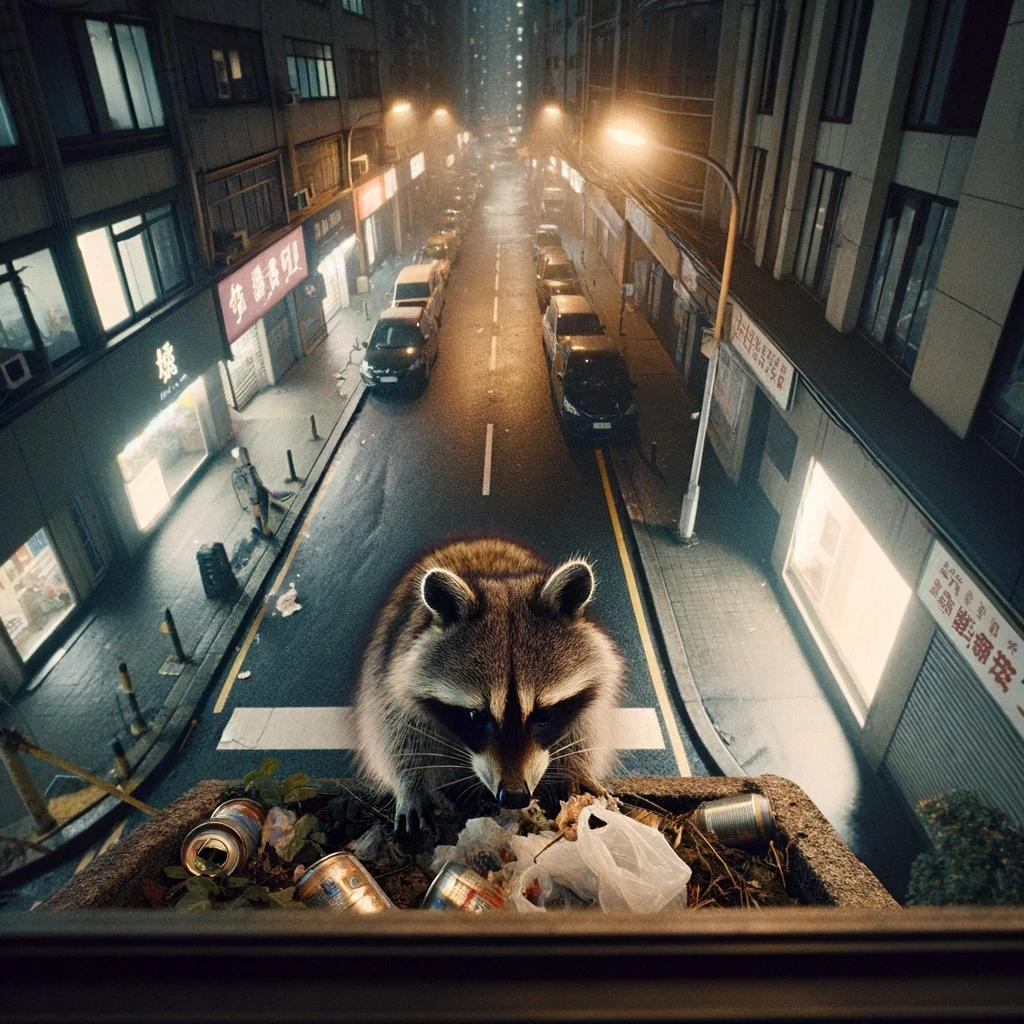raccoon: (335, 517, 647, 865)
